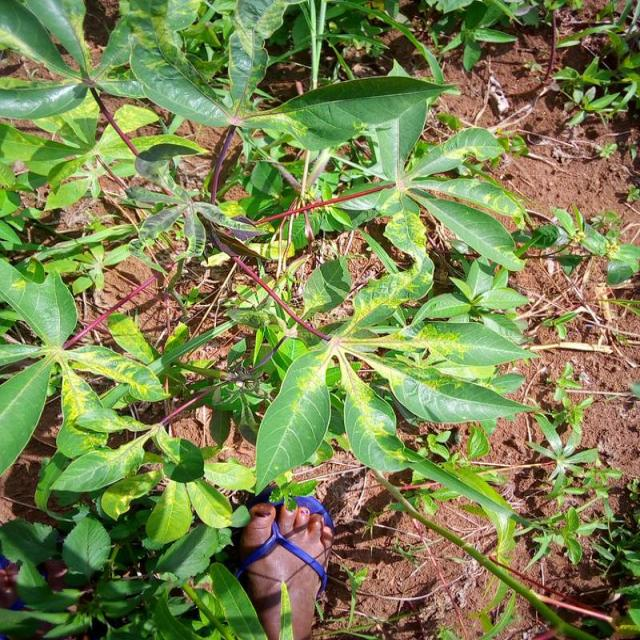cassava leaf: (253, 343, 331, 496)
